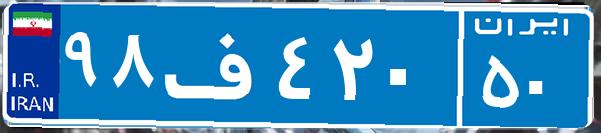0: (385, 28, 445, 110), (525, 38, 570, 115)
2: (330, 28, 385, 110)
4: (273, 28, 330, 110)
5: (475, 38, 525, 113)
8: (110, 28, 158, 105)
9: (57, 26, 110, 107)
ف: (158, 15, 273, 115)
